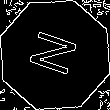N_E: (25, 27, 85, 83)
